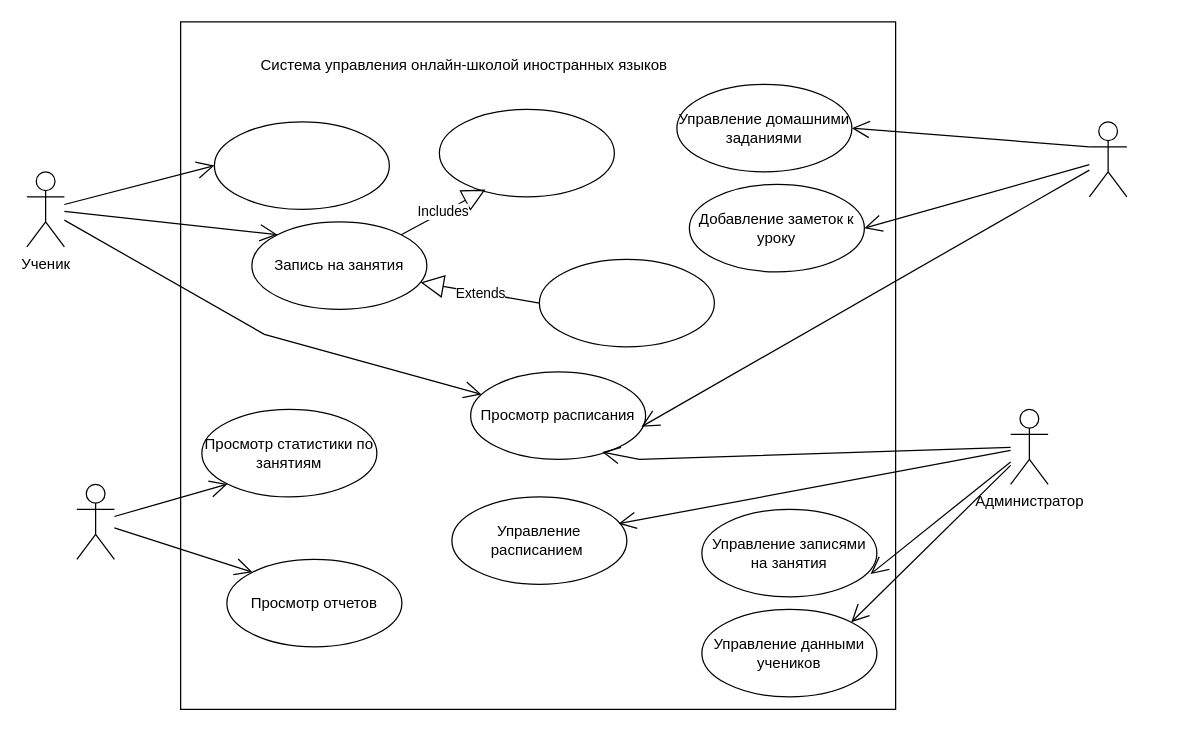
This 1184x731 diagram has some shape labels left out. Each missing label, with the centre of its shape:
"Actor" goes at point 95,521.
"Выбор другого занятия" goes at point 626,302.
"Преподаватель" goes at point 1107,159.
"Проверка наличия мест" goes at point 526,152.
"Просмотр домашнего задания" goes at point 301,165.
